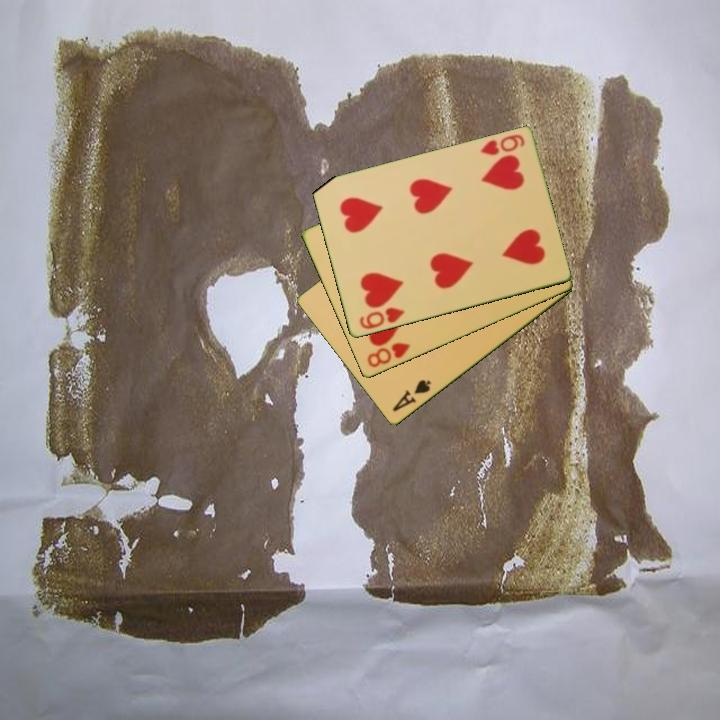6h: (356, 304, 407, 333), (477, 131, 527, 159)
8h: (363, 339, 413, 371)
As: (389, 376, 434, 415)
